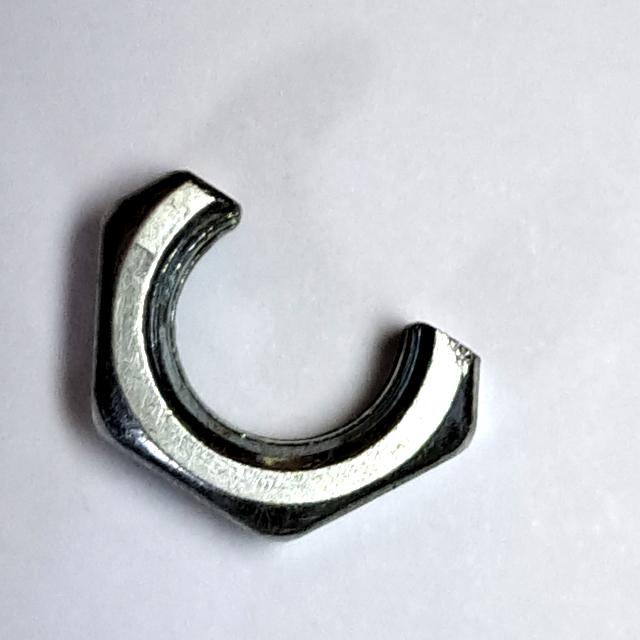Fracture: (77, 155, 493, 553)
